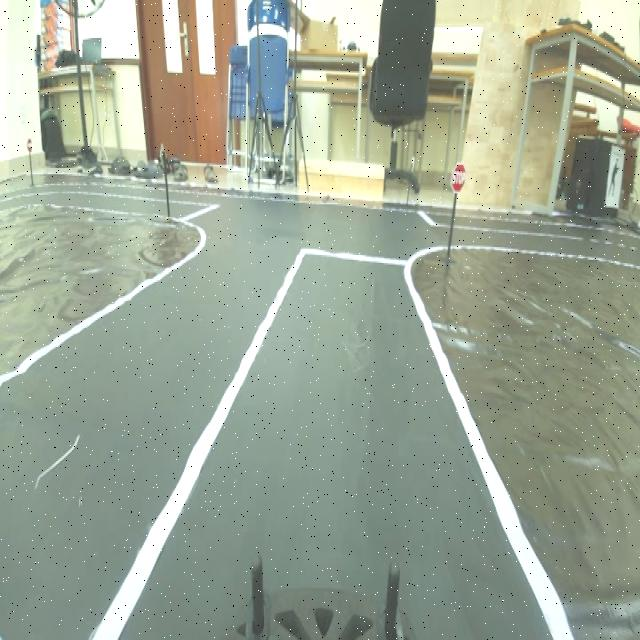stop: (445, 158, 471, 198)
